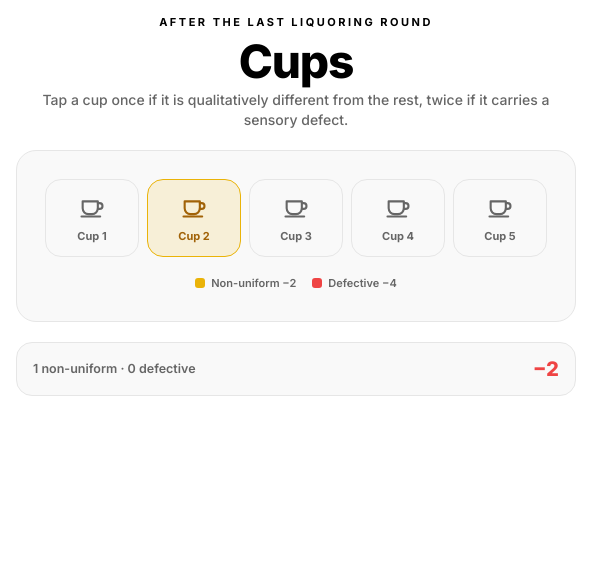
CupsStep — SCA-104 §5.4 › says a defect is not counted while it waits for its type, in the line too
The image size is (593, 561).
Click the button "Cup 4": coordinates (398, 218) [351,179,445,257]
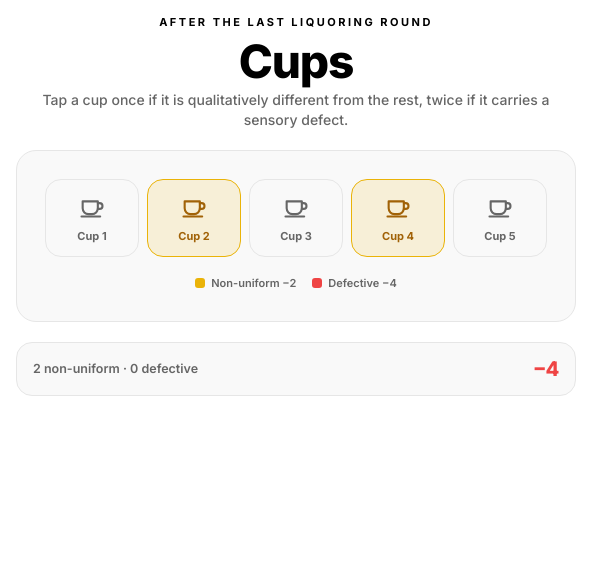
Click the button "Cup 4": coordinates (398, 218) [351,179,445,257]
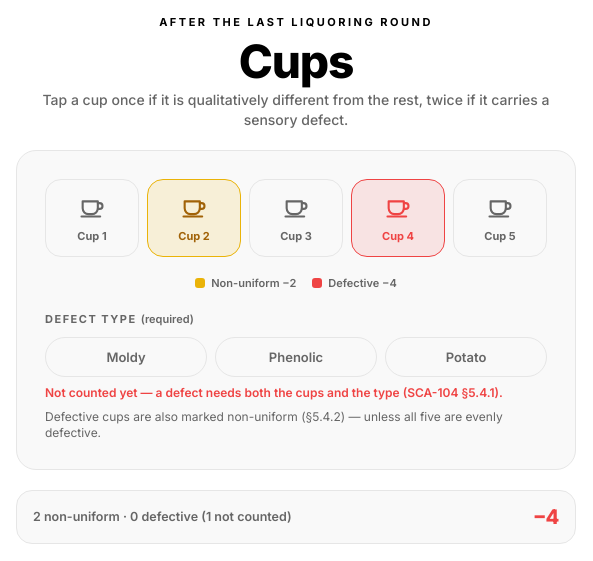
Now the text with test id "cups-line" reads "2 non-uniform · 0 defective (1 not counted)", box [33,507,292,527]
